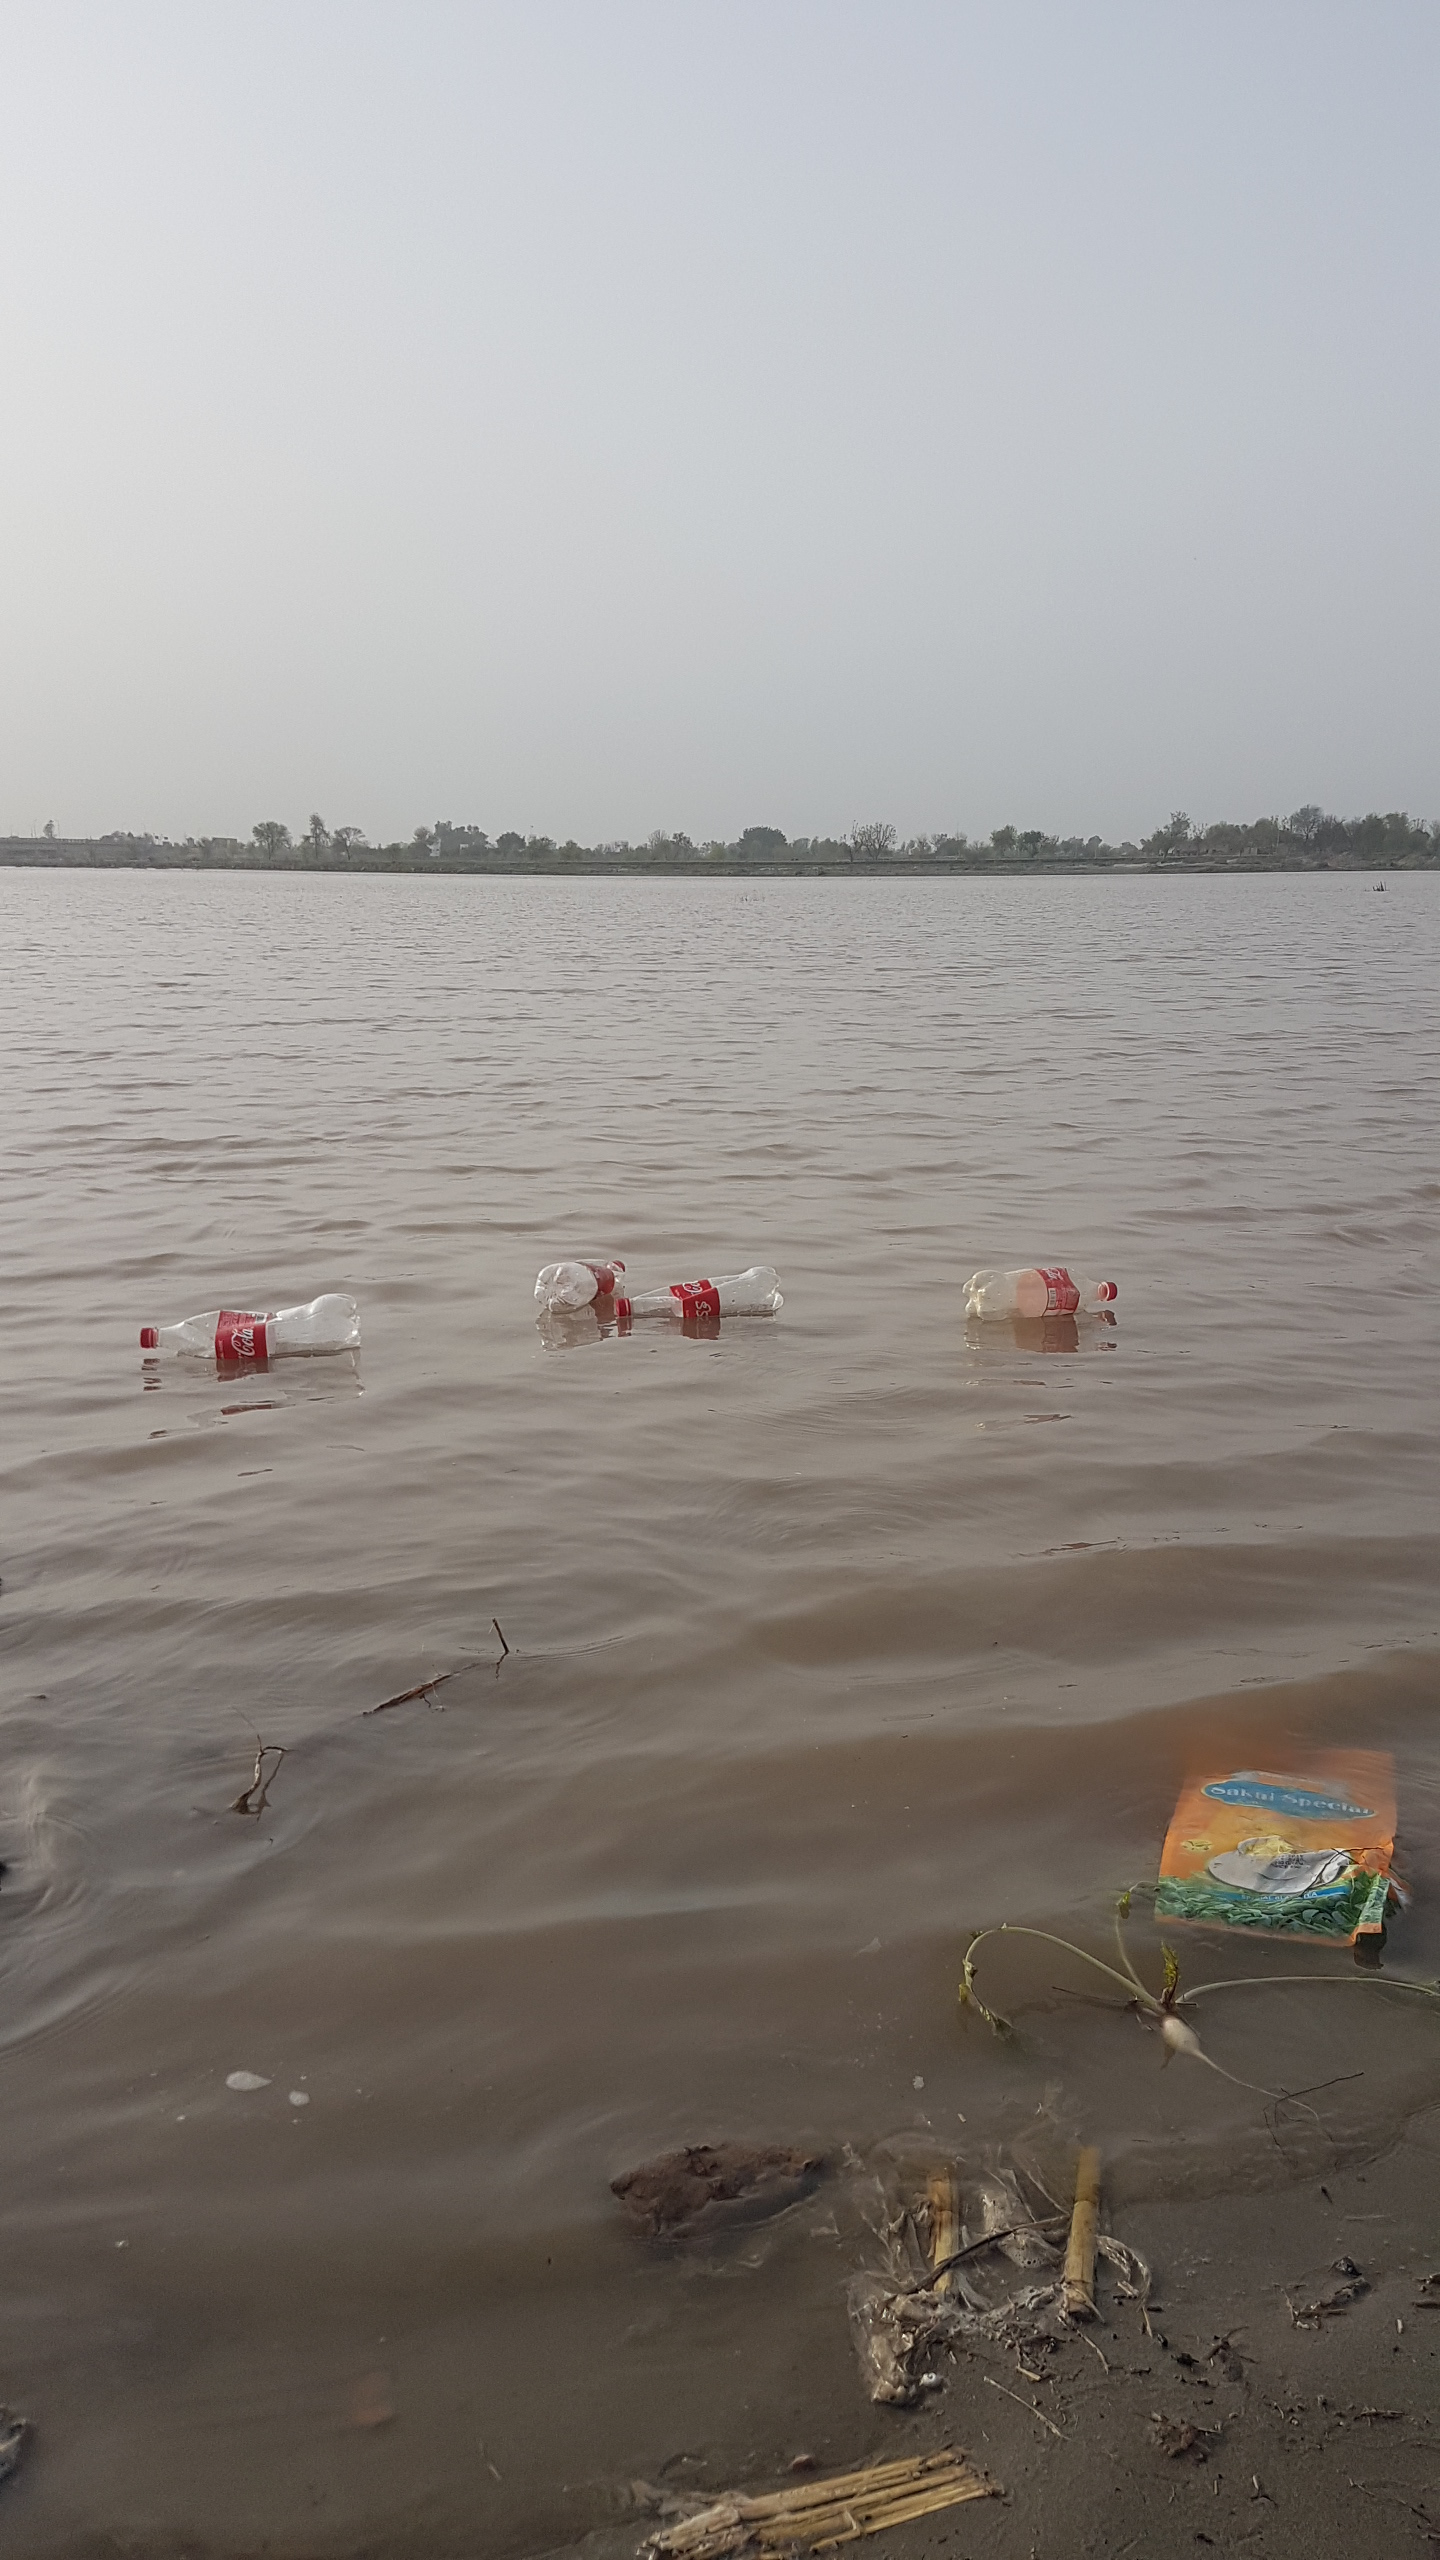Plastic Bottle: (141, 1292, 360, 1357), (614, 1266, 786, 1319), (964, 1264, 1116, 1320), (533, 1261, 626, 1313)
